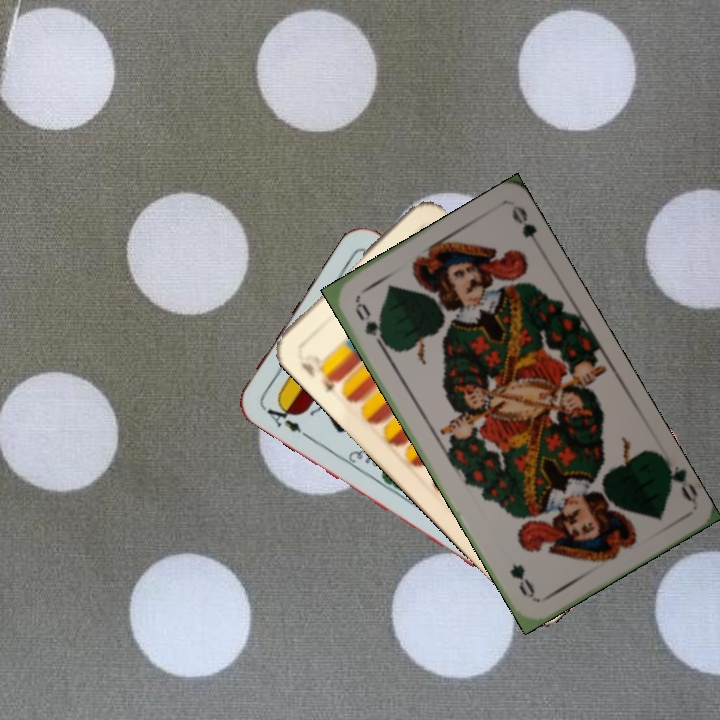E10: (296, 358, 343, 396)
EA: (258, 397, 311, 440)
GO: (350, 297, 392, 351), (658, 453, 700, 505)
